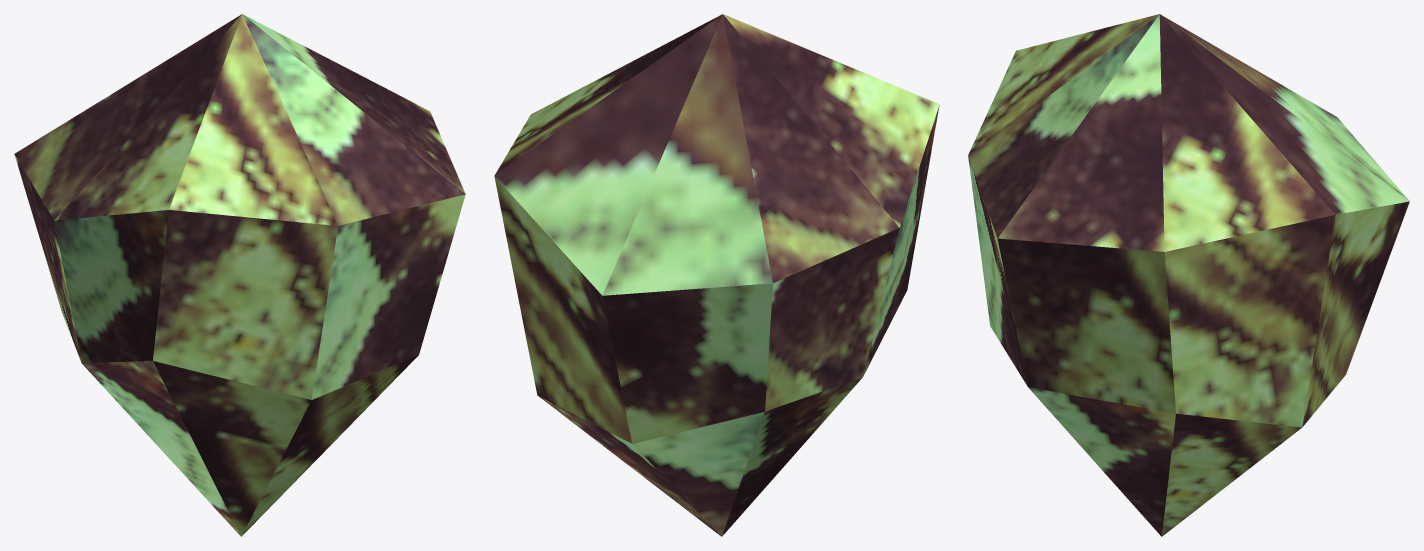
The model's file is gem_greenUV.fbx.
3 views of the same model, side by side, from view 1: azimuth 30°, elevation 25°; view 2: azimuth 150°, elevation 25°; view 3: azimuth 270°, elevation 25° (orthographic).
Visible parts, largest first — view 1: gem; view 2: gem; view 3: gem.
Boxes of the visible parts, bbox=[...] form: gem: bbox=[14, 14, 465, 536]; gem: bbox=[494, 14, 939, 536]; gem: bbox=[968, 14, 1409, 536].
Size of the model in its own units: 0.7434 by 0.9976 by 0.7639.
